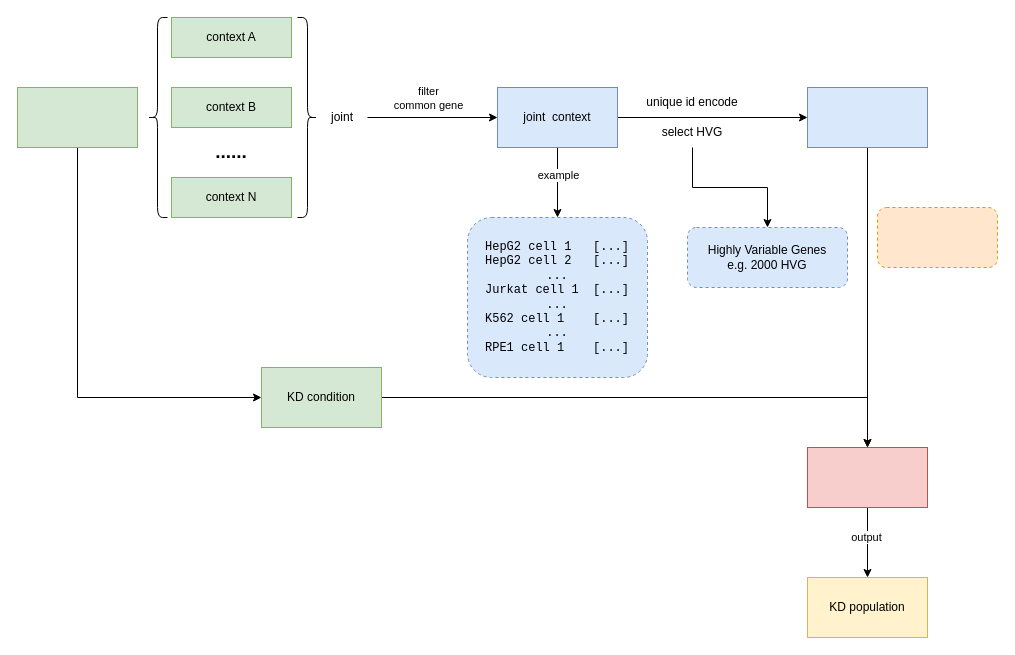
This 1015x655 diagram has some shape labels left out. The shapes that lost their labels are listed below. From the top down, each one's centre as x and y in pixels, then its label:
point (77, 117): h5ad raw data
point (867, 117): processed context
point (937, 237): e.g. NAF1 KD cells 256* 2000 matrix
point (867, 477): Model
